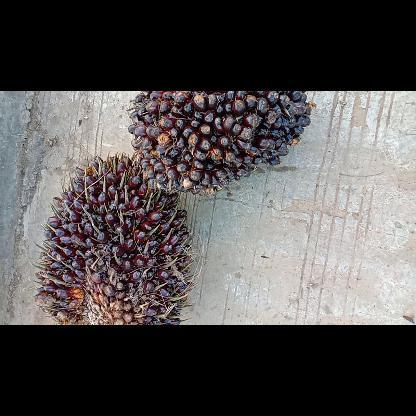TBS mentah: (35, 154, 190, 324), (128, 91, 312, 195)
